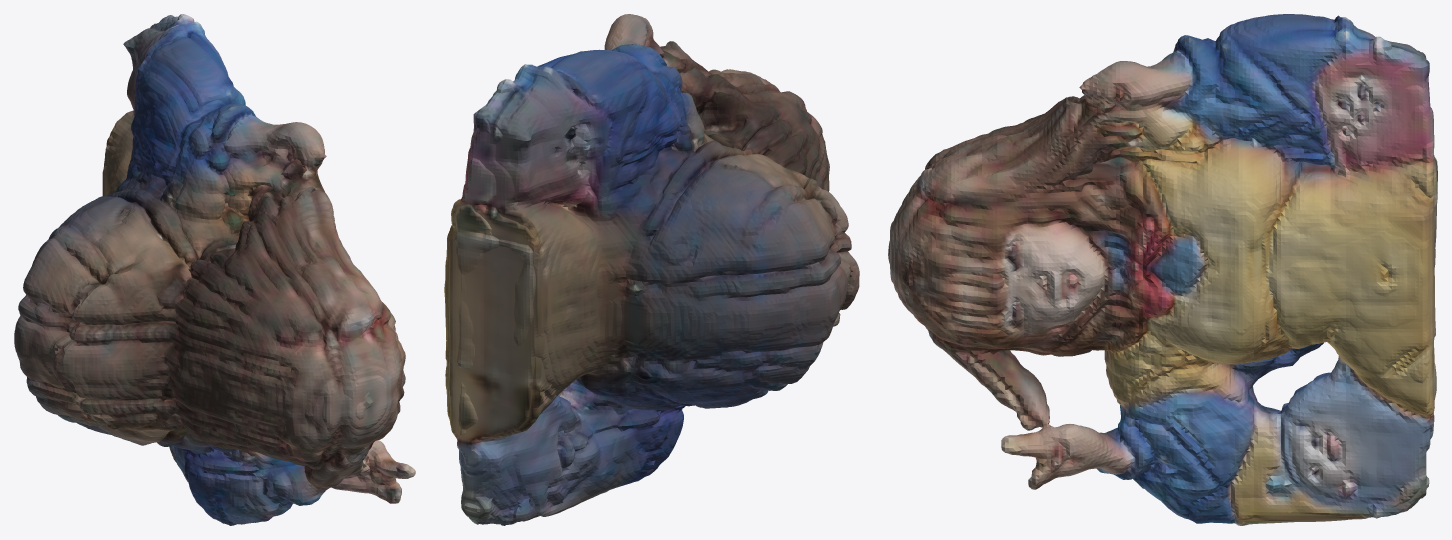
The picture shows the model from 3 angles, left to right: view 1: azimuth 30°, elevation 25°; view 2: azimuth 150°, elevation 25°; view 3: azimuth 270°, elevation 25°; orthographic projection. The views are drawn at different scales.
Parts seen in each view (by area): view 1: world; view 2: world; view 3: world.
Part boxes in pixels (x1,y1,x2,y2): world: (14, 14, 415, 525); world: (444, 14, 859, 525); world: (888, 14, 1437, 525).
Size of the model in its own units: 0.6819 by 0.9666 by 0.9788.
